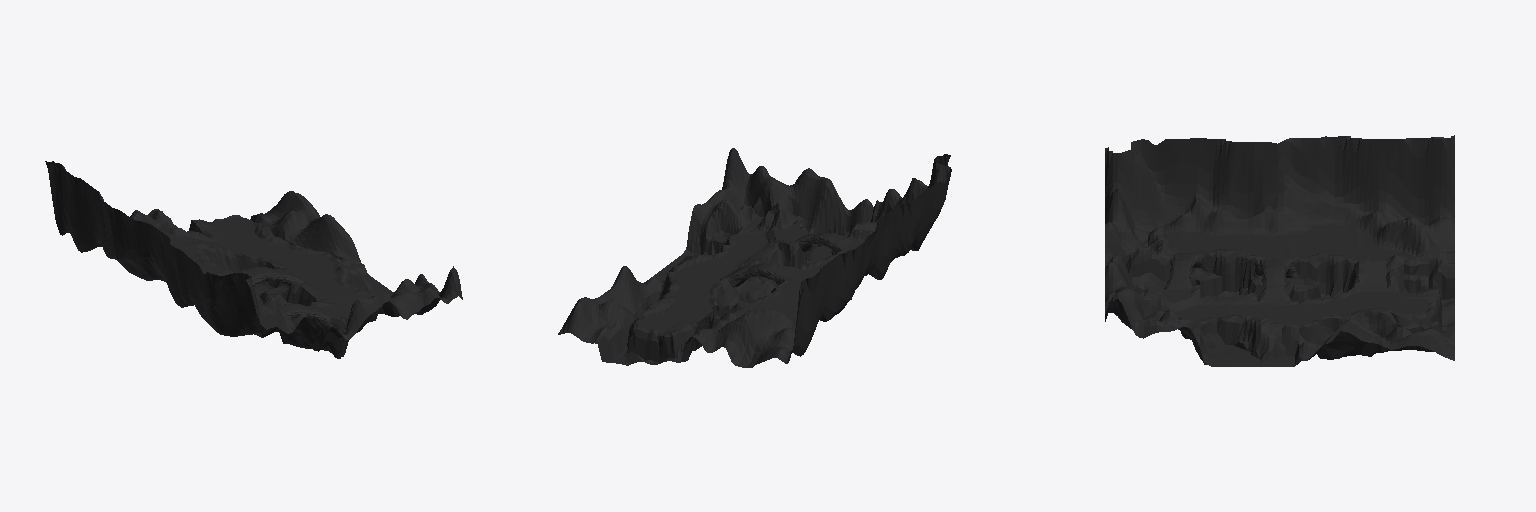
The model's file is SJHD.obj.
3 renders of one model, left to right at view 1: azimuth 30°, elevation 25°; view 2: azimuth 150°, elevation 25°; view 3: azimuth 270°, elevation 25°, orthographic.
Visible parts, largest first — view 1: SJHD_terrain_05, SJHD_terrain_06, SJHD_terrain_03, SJHD_terrain_02, SJHD_terrain_07, SJHD_terrain_04, SJHD_terrain_01; view 2: SJHD_terrain_06, SJHD_terrain_05, SJHD_terrain_03, SJHD_terrain_02, SJHD_terrain_01, SJHD_terrain_07, SJHD_terrain_04; view 3: SJHD_terrain_05, SJHD_terrain_04, SJHD_terrain_01, SJHD_terrain_06, SJHD_terrain_03, SJHD_terrain_02, SJHD_terrain_07.
Part boxes in pixels (bbox=[...]): SJHD_terrain_05: bbox=[45, 161, 303, 333]; SJHD_terrain_06: bbox=[250, 191, 462, 332]; SJHD_terrain_03: bbox=[230, 257, 410, 334]; SJHD_terrain_02: bbox=[189, 215, 332, 271]; SJHD_terrain_07: bbox=[218, 257, 370, 358]; SJHD_terrain_04: bbox=[138, 257, 300, 343]; SJHD_terrain_01: bbox=[98, 210, 219, 280]; SJHD_terrain_06: bbox=[558, 148, 824, 365]; SJHD_terrain_05: bbox=[643, 154, 951, 367]; SJHD_terrain_03: bbox=[669, 199, 855, 294]; SJHD_terrain_02: bbox=[629, 272, 733, 350]; SJHD_terrain_01: bbox=[688, 283, 860, 360]; SJHD_terrain_07: bbox=[720, 178, 891, 305]; SJHD_terrain_04: bbox=[781, 218, 933, 287]; SJHD_terrain_05: bbox=[1105, 135, 1454, 326]; SJHD_terrain_04: bbox=[1126, 179, 1303, 292]; SJHD_terrain_01: bbox=[1302, 188, 1441, 299]; SJHD_terrain_06: bbox=[1105, 258, 1454, 366]; SJHD_terrain_03: bbox=[1143, 252, 1299, 359]; SJHD_terrain_02: bbox=[1297, 272, 1439, 344]; SJHD_terrain_07: bbox=[1105, 222, 1351, 302].
Size of the model in its own units: 119 by 57.63 by 147.